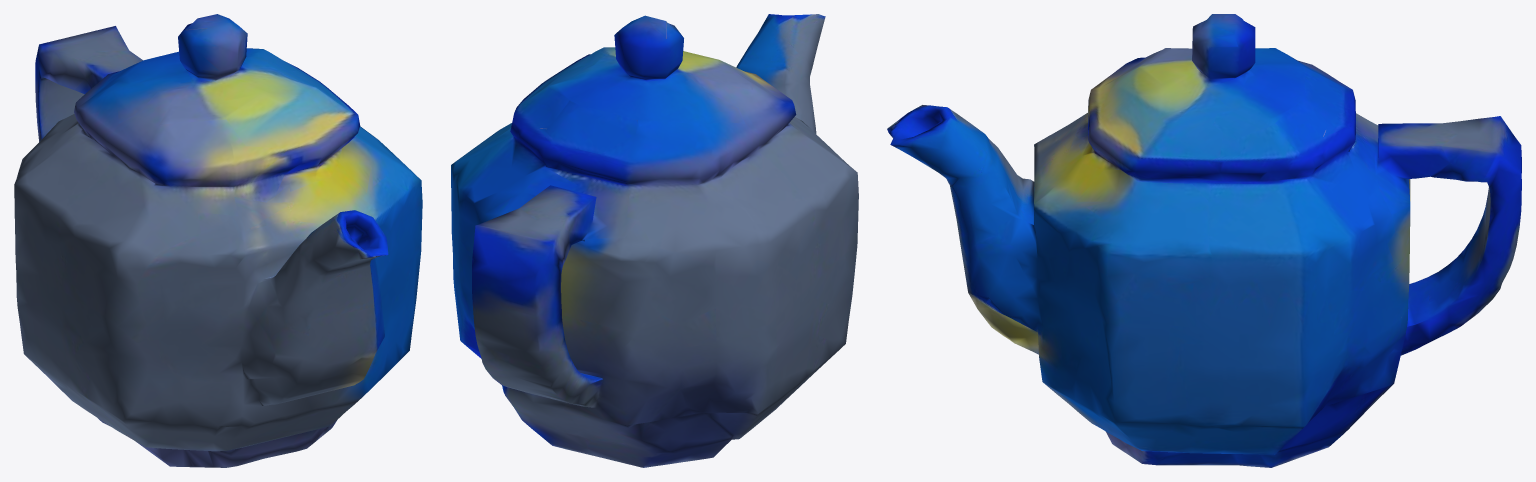
The model's file is hero-teapot.glb.
3 views of the same model, side by side, from view 1: azimuth 30°, elevation 25°; view 2: azimuth 150°, elevation 25°; view 3: azimuth 270°, elevation 25° (orthographic). The views are drawn at different scales.
Parts seen in each view (by area): view 1: tripo_node_6565427c-eff2-4f23-9491-1e5dc38b86ed; view 2: tripo_node_6565427c-eff2-4f23-9491-1e5dc38b86ed; view 3: tripo_node_6565427c-eff2-4f23-9491-1e5dc38b86ed.
Part boxes in pixels (x1,y1,x2,y2): tripo_node_6565427c-eff2-4f23-9491-1e5dc38b86ed: [14, 14, 422, 467]; tripo_node_6565427c-eff2-4f23-9491-1e5dc38b86ed: [451, 14, 858, 467]; tripo_node_6565427c-eff2-4f23-9491-1e5dc38b86ed: [887, 14, 1521, 467].
Bounding box in the file's own units: 0.5926 × 0.7045 × 1.
Materials: 1 (1 with a texture image).
